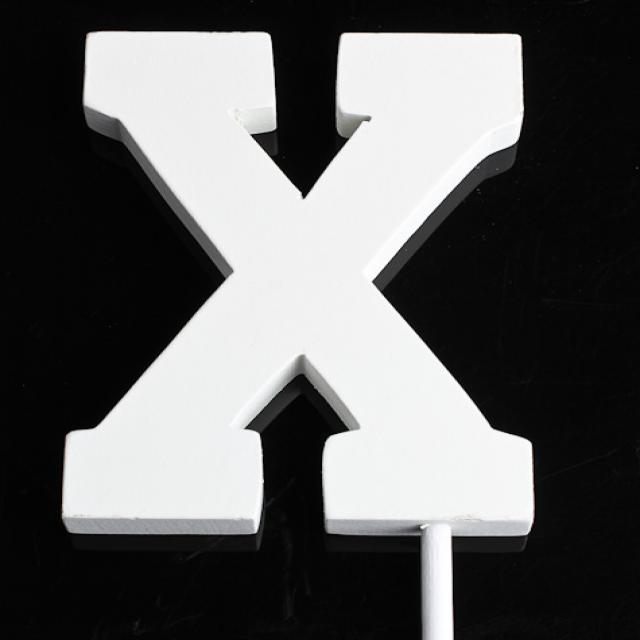X: (57, 8, 558, 552)
